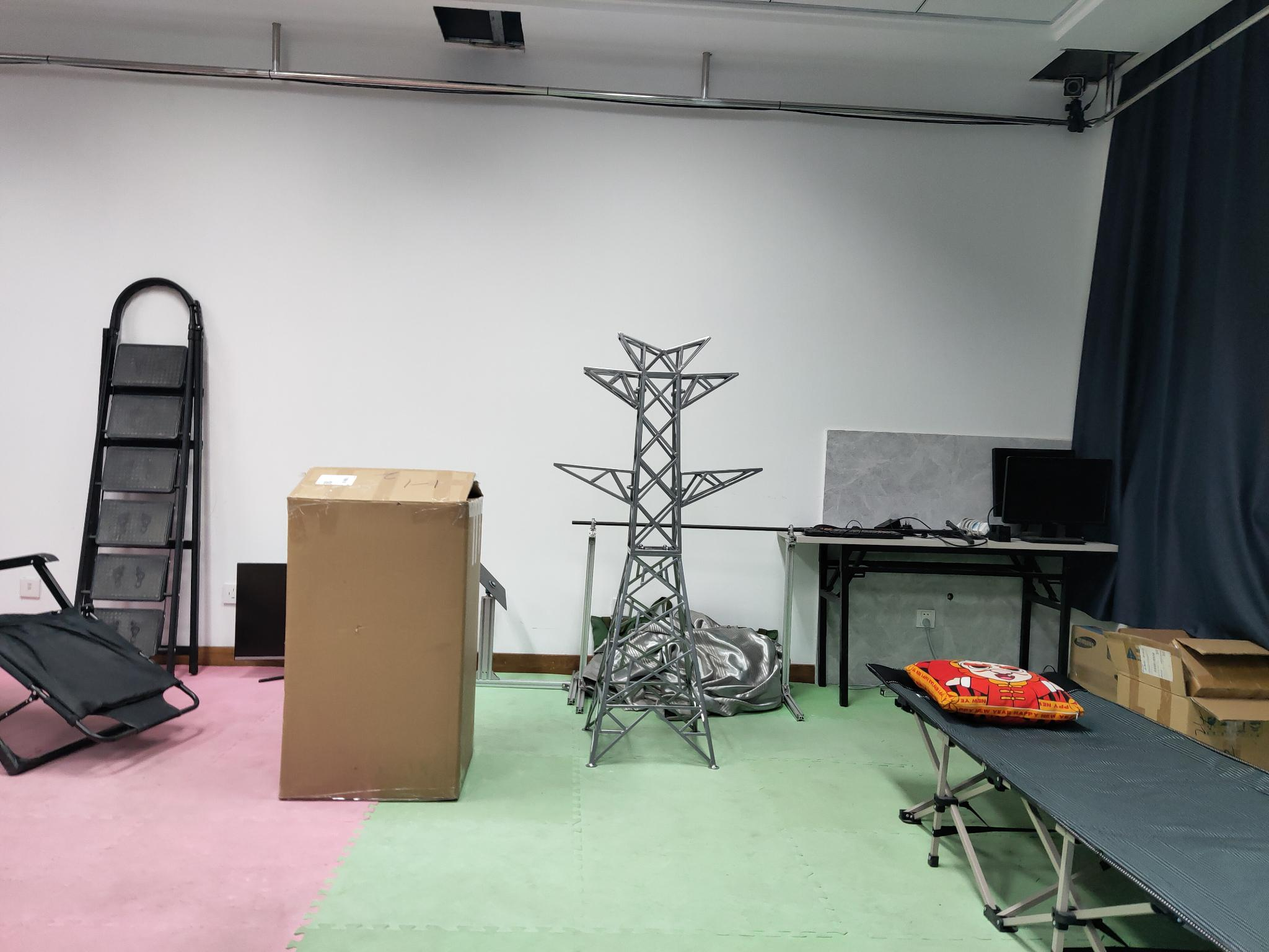tower: (554, 331, 762, 769)
